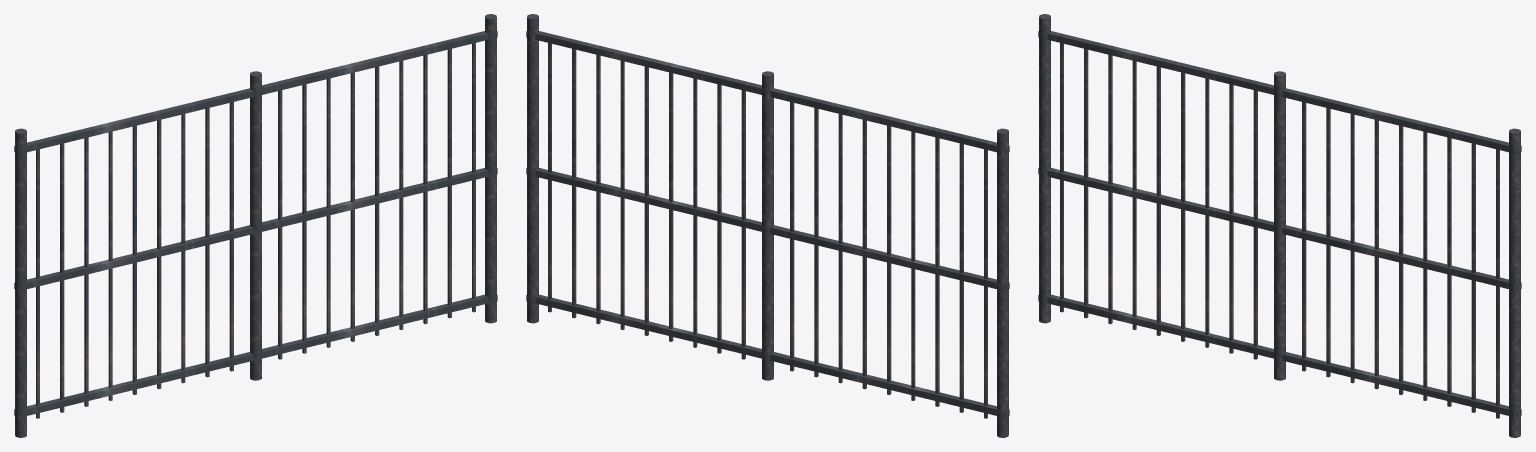
The model's file is map_fence.glb.
3 views of the same model, side by side, from view 1: azimuth 30°, elevation 25°; view 2: azimuth 150°, elevation 25°; view 3: azimuth 330°, elevation 25° (orthographic).
Visible parts, largest first — view 1: fence_root; view 2: fence_root; view 3: fence_root.
Boxes of the visible parts, box(x1,y1,x2,y2) form: fence_root: box(14, 14, 497, 437); fence_root: box(526, 14, 1009, 437); fence_root: box(1038, 14, 1521, 437).
Size of the model in its own units: 3.97 by 2.4 by 0.09.
Materials: 1 (1 with a texture image).
